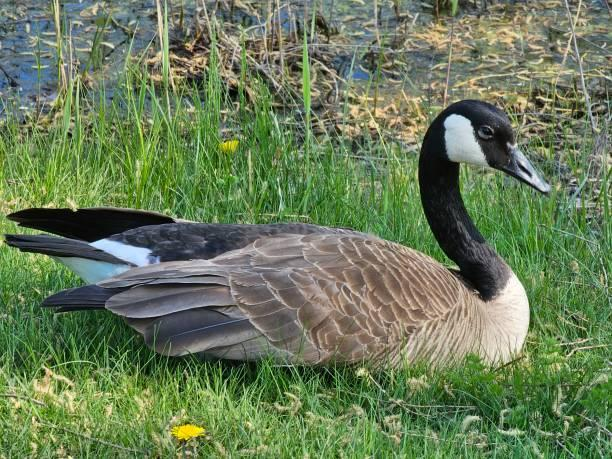Canadian-Goose: (13, 94, 558, 371)
